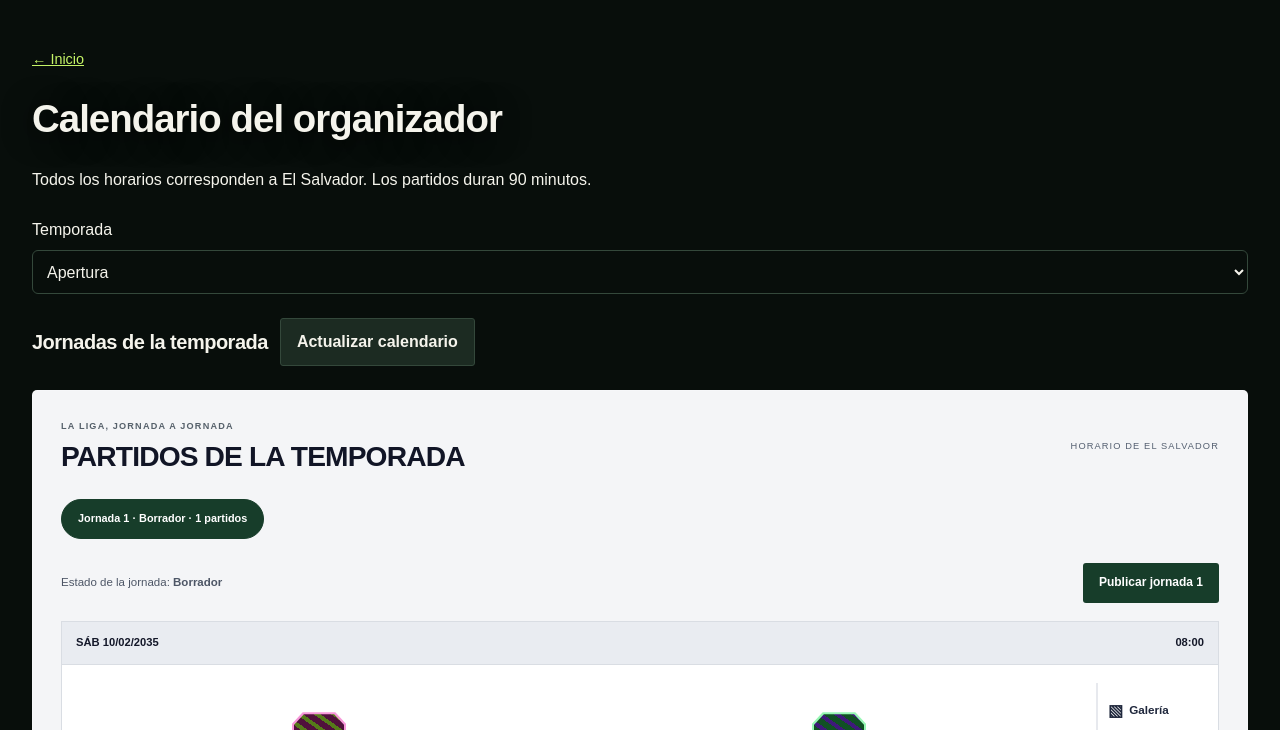
FE-3.1 calendario › recarga el estado ante 409 de publicación
Click the button "Publicar jornada 1" at (1151, 583), box 1083,563 -> 1219,603
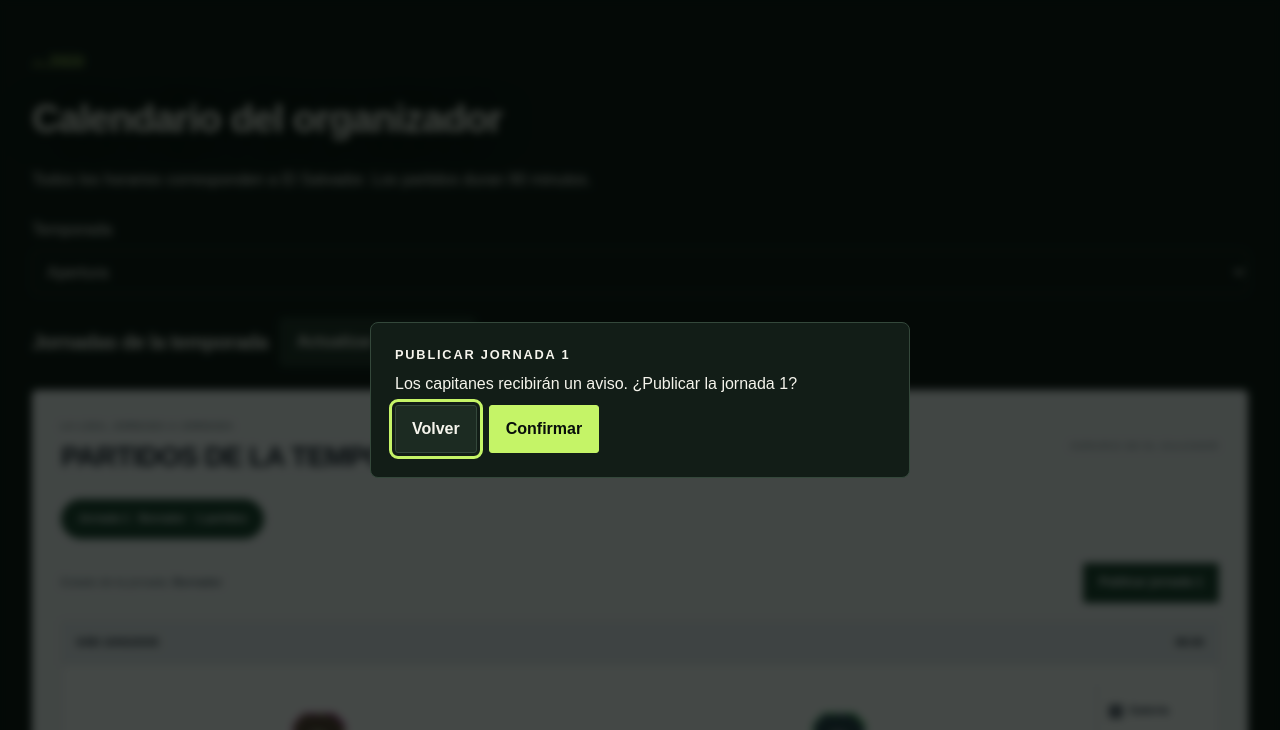
Click the button "Confirmar" at (544, 429), box 489,405 -> 599,453
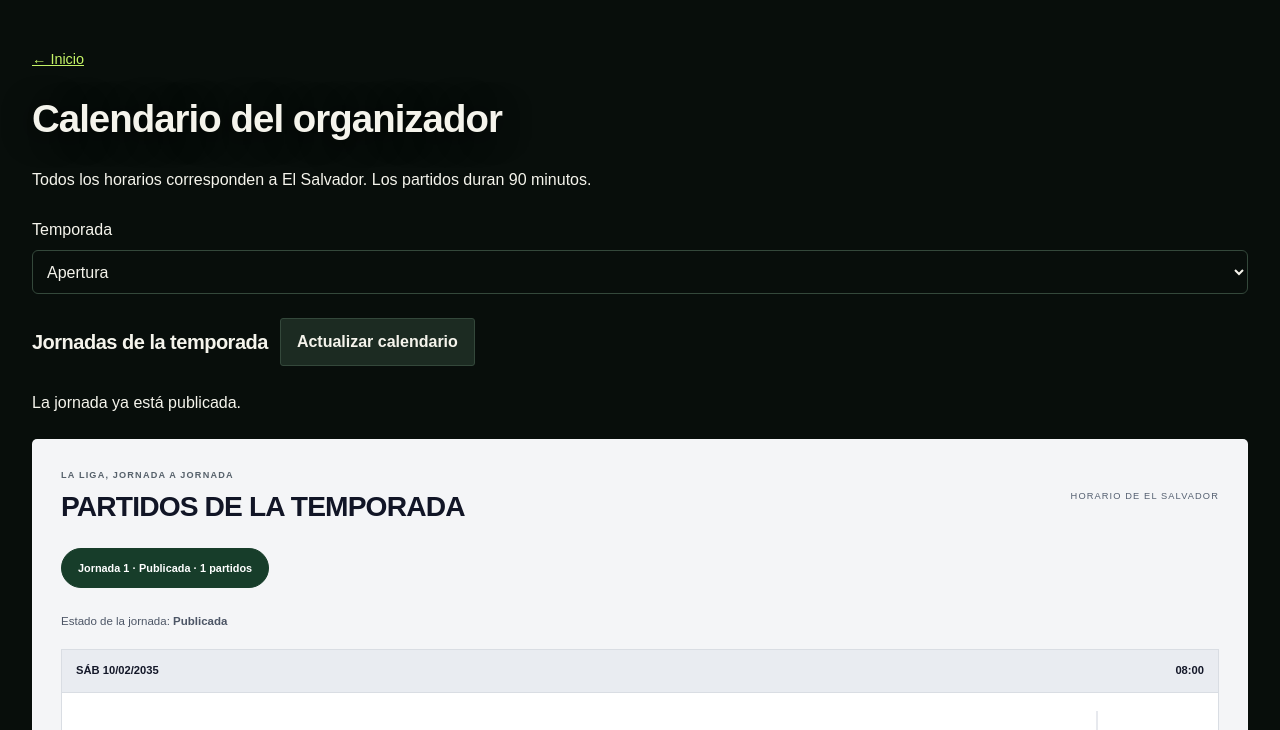
Expected: the text "La jornada ya está publicada." is shown, 32,394 -> 241,411
Expected: the button "Jornada 1 · Publicada · 1 partidos" is shown, 61,548 -> 269,588
Expected: the dialog is gone
